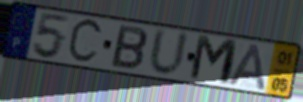5: (32, 10, 73, 61)
A: (226, 42, 268, 93)
B: (108, 23, 150, 72)
C: (65, 17, 105, 67)
M: (187, 33, 241, 89)
U: (147, 26, 191, 79)
